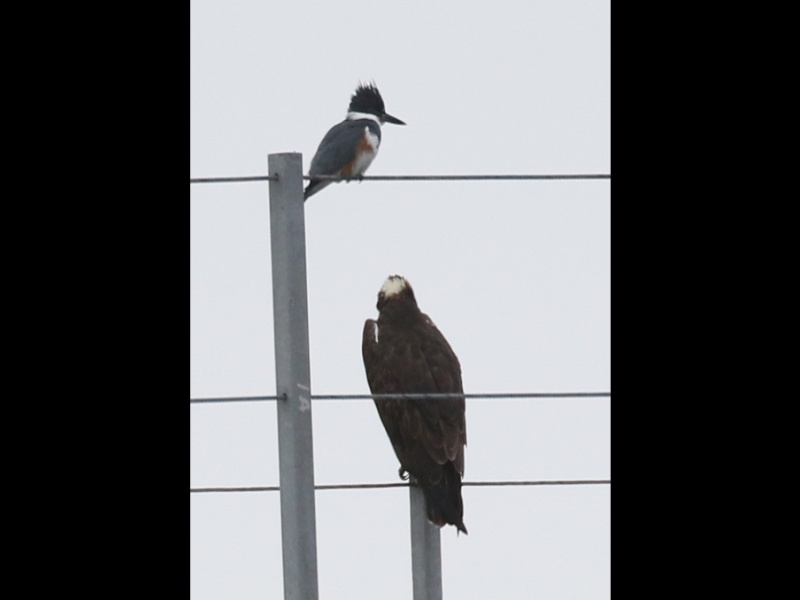kingfisher: (290, 83, 408, 208)
